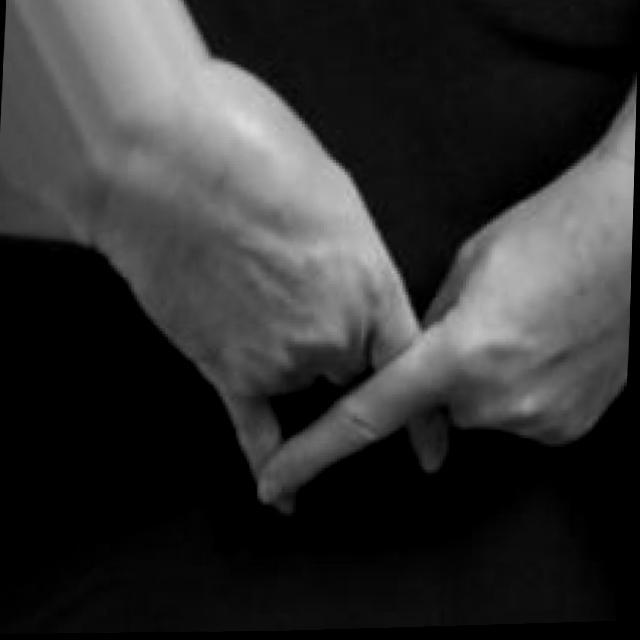H: (79, 13, 639, 530)
